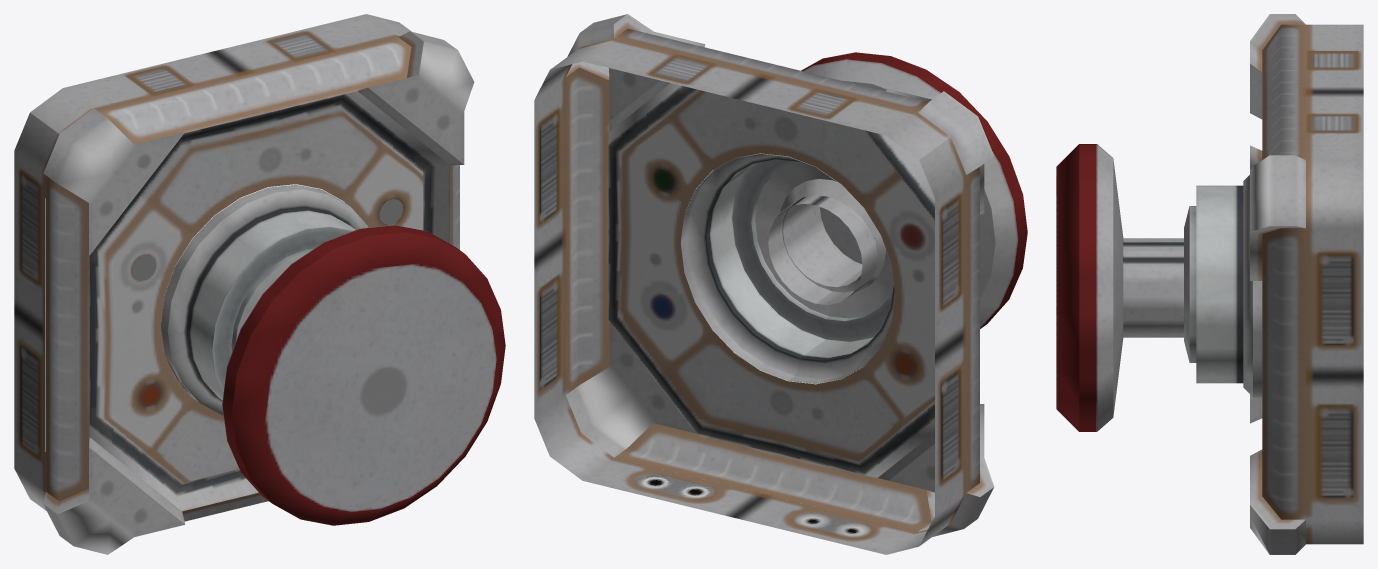
File: Button A1A.fbx
3 renders of one model, left to right at view 1: azimuth 30°, elevation 25°; view 2: azimuth 150°, elevation 25°; view 3: azimuth 270°, elevation 25°, orthographic. The views are drawn at different scales.
Parts seen in each view (by area): view 1: Button A1A, ButtonHandle A1A; view 2: Button A1A, ButtonHandle A1A; view 3: Button A1A, ButtonHandle A1A.
Part boxes in pixels (x1,y1,x2,y2): Button A1A: [14, 14, 474, 554]; ButtonHandle A1A: [222, 225, 505, 525]; Button A1A: [534, 14, 994, 554]; ButtonHandle A1A: [768, 52, 1027, 328]; Button A1A: [1184, 14, 1363, 554]; ButtonHandle A1A: [1056, 144, 1183, 431].
Size of the model in its own units: 16.58 by 16.58 by 11.56.
Materials: 3 (1 with a texture image).
